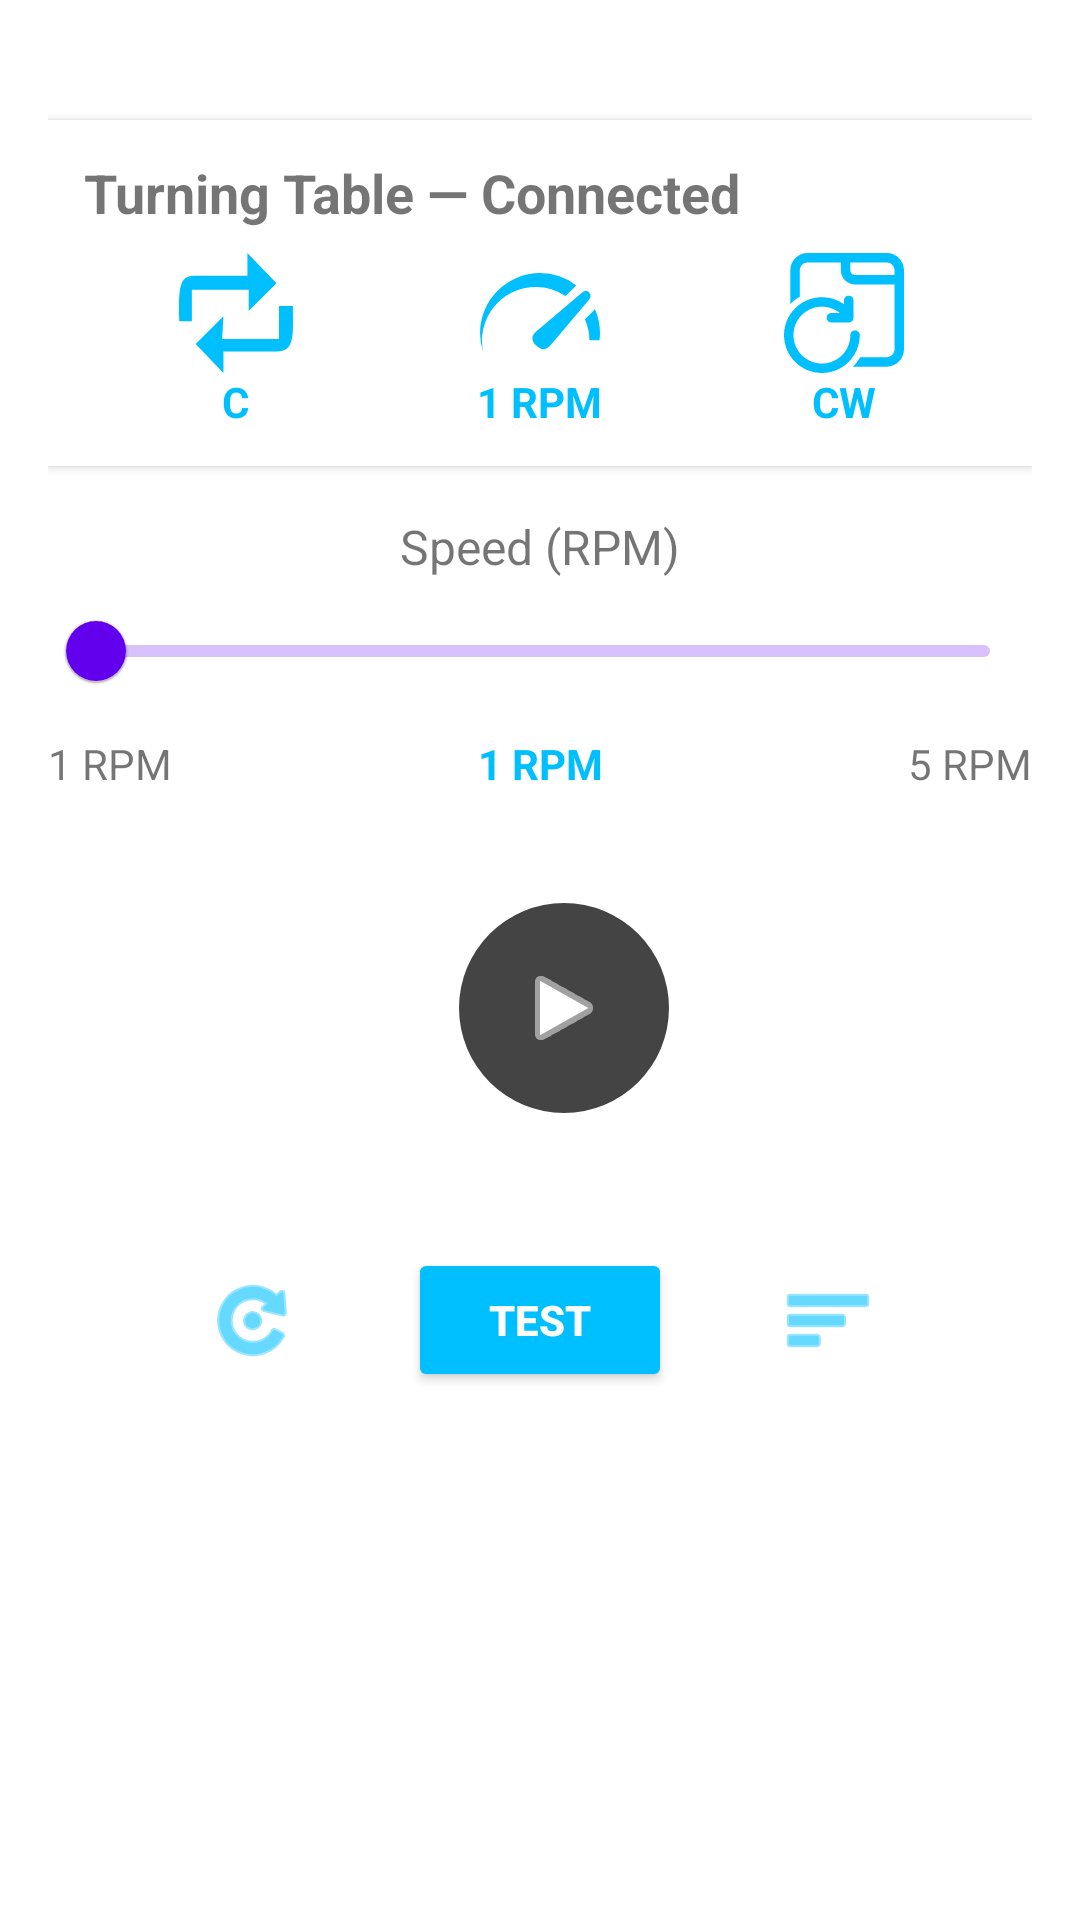

Locate icon controls on the screen. Image size 1080×1920, boxes as {"x1": x1, "y1": y1, "x2": x2, "y2": y2}.
Open Log: {"x1": 787, "y1": 1294, "x2": 869, "y2": 1347}
Play/Pause: {"x1": 459, "y1": 903, "x2": 669, "y2": 1113}
